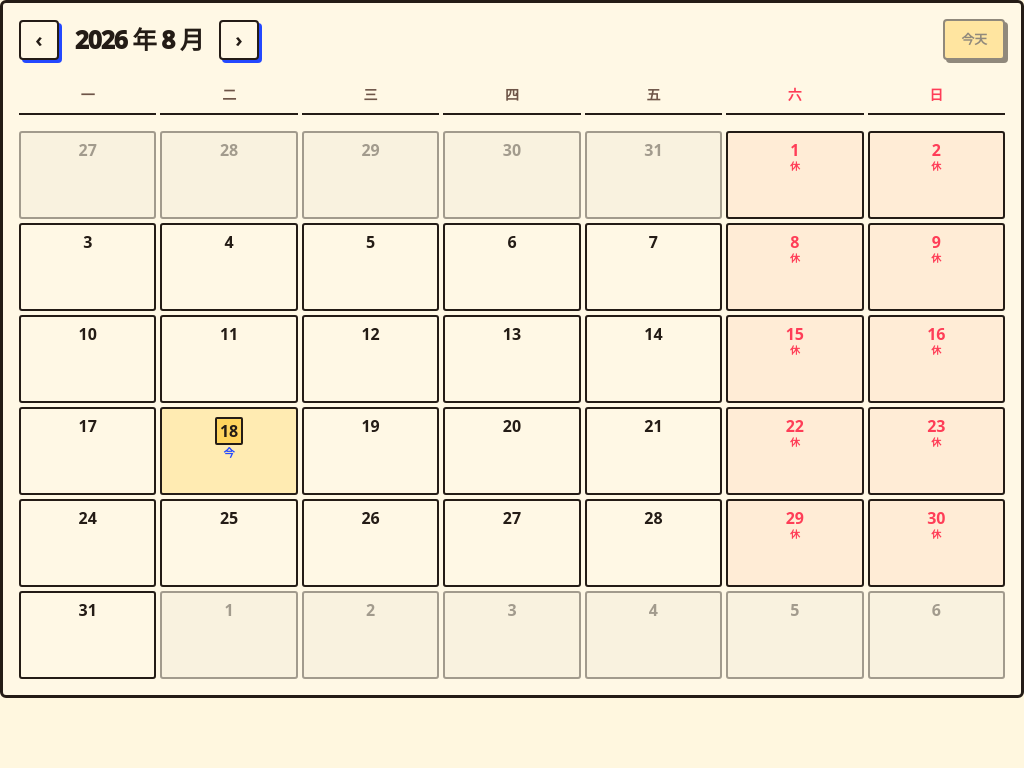
TaskCalendar › moves to the next month
Step 1. Click the button named "下一个月" → (239, 40), box [219,20,259,60]
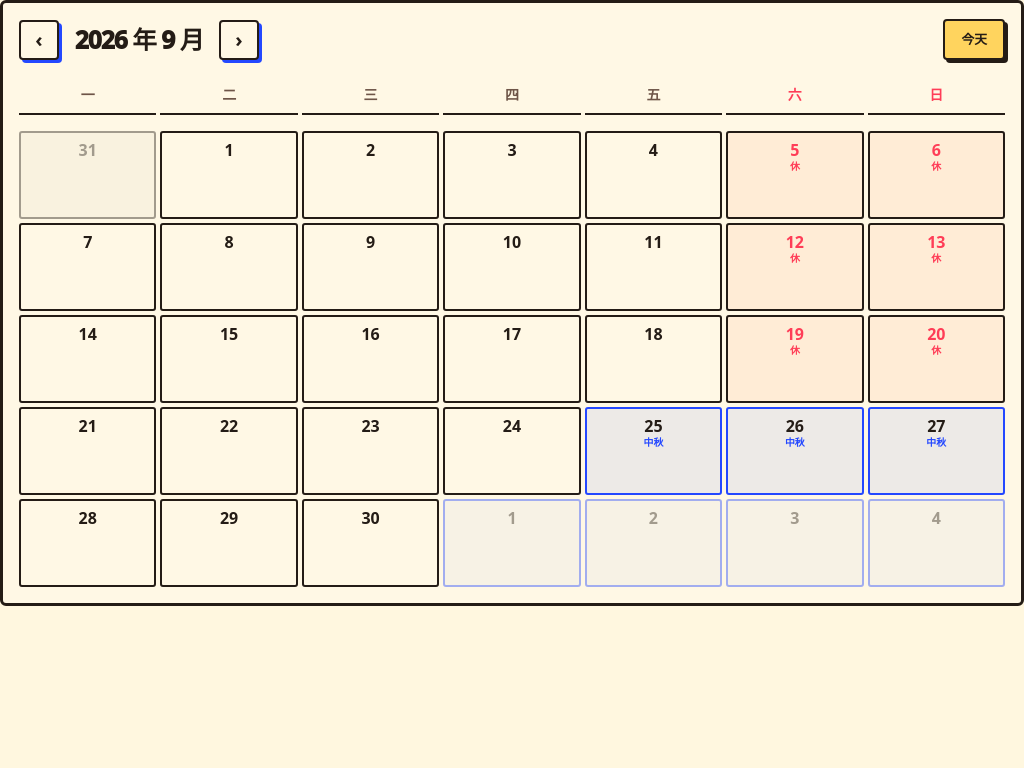
Expected: the heading "2026 年 9 月" is shown, [71,28,207,51]
